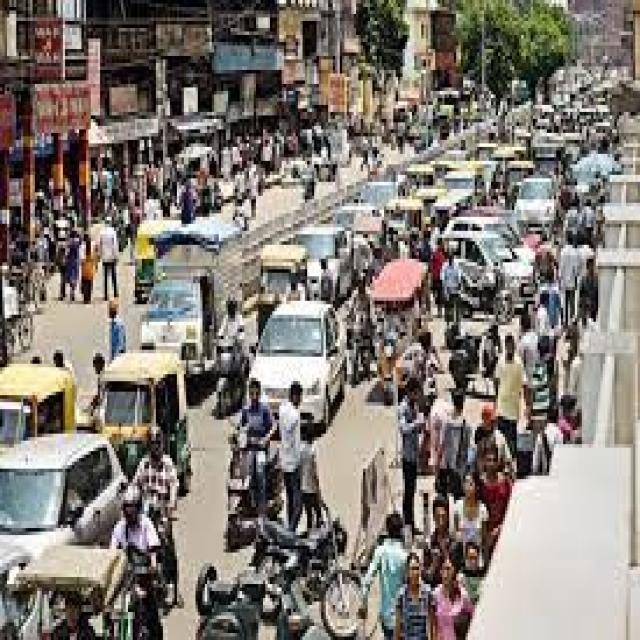car: (0, 434, 126, 574), (249, 301, 342, 430), (445, 231, 533, 308), (296, 224, 351, 304), (333, 182, 391, 248), (514, 178, 554, 227), (445, 171, 475, 192)
motorcycle: (195, 567, 361, 640), (254, 504, 344, 602), (226, 430, 279, 553), (214, 343, 244, 420), (347, 329, 370, 385)
person: (130, 427, 175, 609), (363, 514, 405, 640), (240, 378, 270, 518), (398, 378, 424, 535), (477, 451, 510, 553), (279, 381, 300, 532), (109, 486, 158, 549), (424, 500, 458, 588), (496, 336, 521, 455), (433, 563, 470, 640), (398, 553, 428, 640), (445, 392, 468, 497), (456, 476, 486, 549), (531, 339, 552, 430), (300, 427, 317, 532), (54, 598, 95, 640), (100, 220, 116, 301), (463, 542, 482, 605), (219, 297, 242, 346), (347, 283, 370, 332), (81, 238, 93, 304), (112, 301, 123, 360), (91, 357, 102, 413)
three wheeler: (100, 353, 186, 493), (0, 364, 72, 448), (258, 245, 305, 336), (135, 220, 170, 304)
